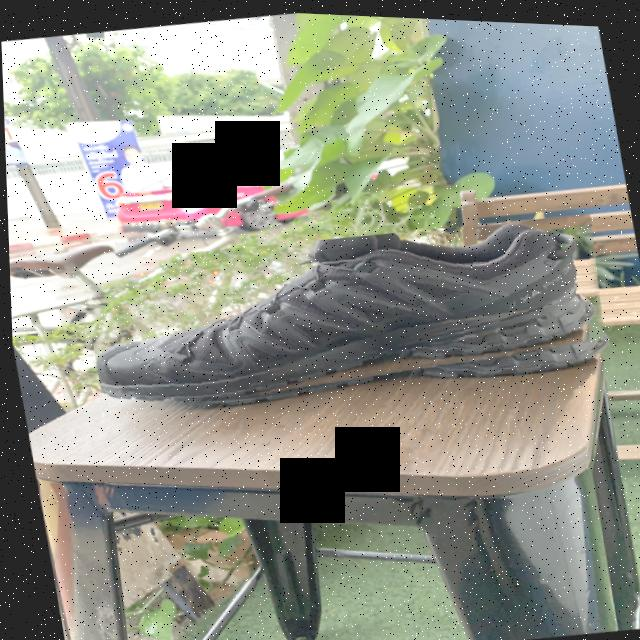shoe: (75, 190, 619, 436)
